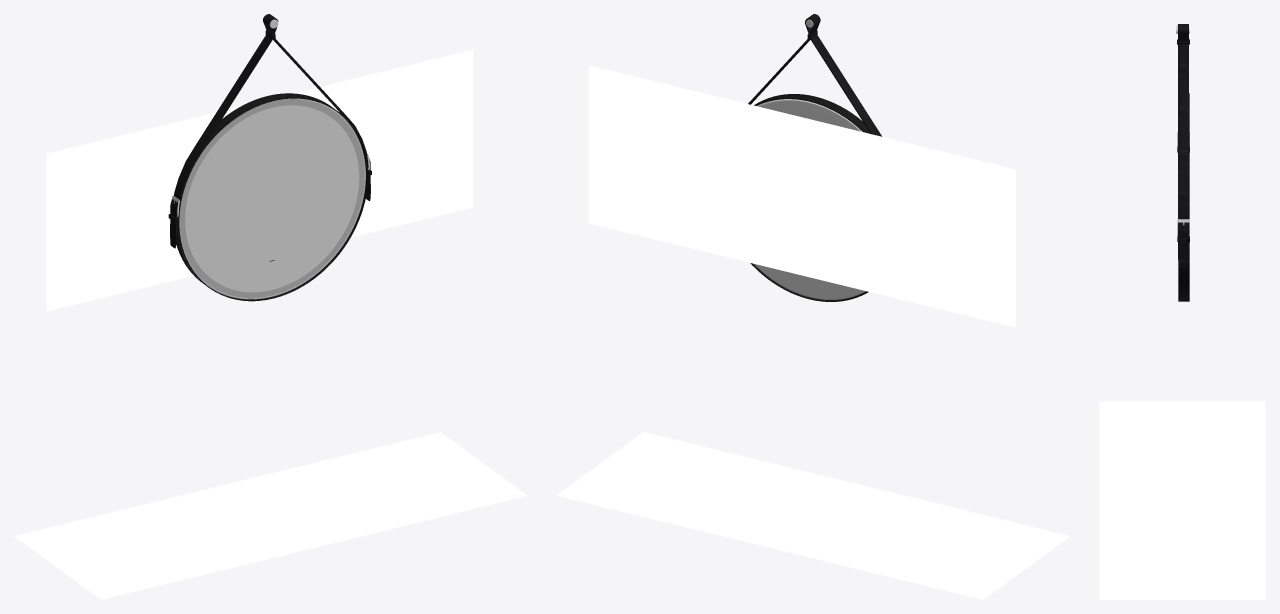
File: kap7.glb
3 renders of one model, left to right at view 1: azimuth 30°, elevation 25°; view 2: azimuth 150°, elevation 25°; view 3: azimuth 270°, elevation 25°, orthographic. The views are drawn at different scales.
Visible parts, largest first — view 1: Куб.001, Куб, Shape2174, Shape2177, Cylinder204205, Cylinder204201; view 2: Куб.001, Куб, Shape2175, Cylinder204205, Cylinder204201; view 3: Куб, Cylinder204205, Cylinder204201.
Part boxes in pixels (x1=…): Куб.001: x1=46, y1=49, x2=473, y2=311; Куб: x1=14, y1=432, x2=527, y2=599; Shape2174: x1=185, y1=105, x2=359, y2=292; Shape2177: x1=179, y1=98, x2=365, y2=299; Cylinder204205: x1=170, y1=14, x2=370, y2=248; Cylinder204201: x1=176, y1=93, x2=367, y2=301; Куб.001: x1=588, y1=65, x2=1015, y2=327; Куб: x1=556, y1=432, x2=1070, y2=599; Shape2175: x1=754, y1=99, x2=865, y2=299; Cylinder204205: x1=748, y1=14, x2=881, y2=136; Cylinder204201: x1=750, y1=94, x2=870, y2=301; Куб: x1=1099, y1=401, x2=1265, y2=599; Cylinder204205: x1=1178, y1=24, x2=1188, y2=267; Cylinder204201: x1=1178, y1=93, x2=1189, y2=301.
Size of the model in its own units: 1.36 by 1.52 by 0.48.
Materials: 6 (2 with a texture image).
